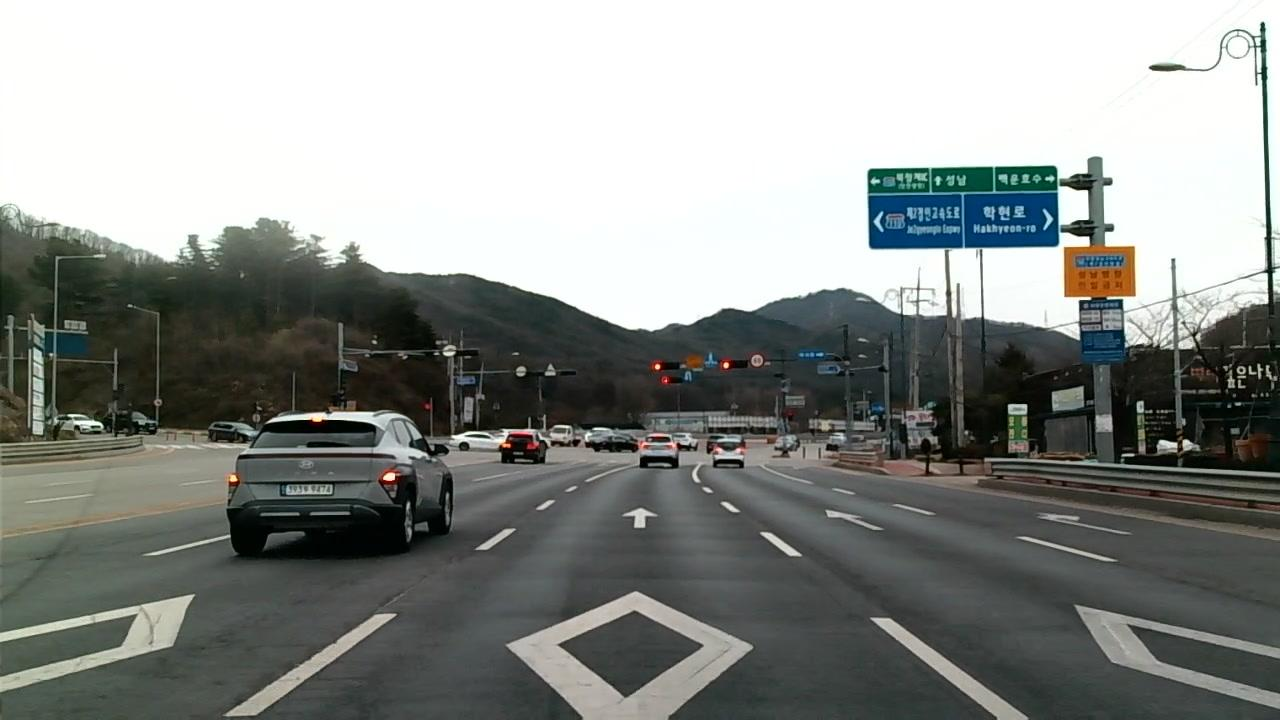vcrack: (1166, 574, 1279, 612), (362, 583, 416, 623)
